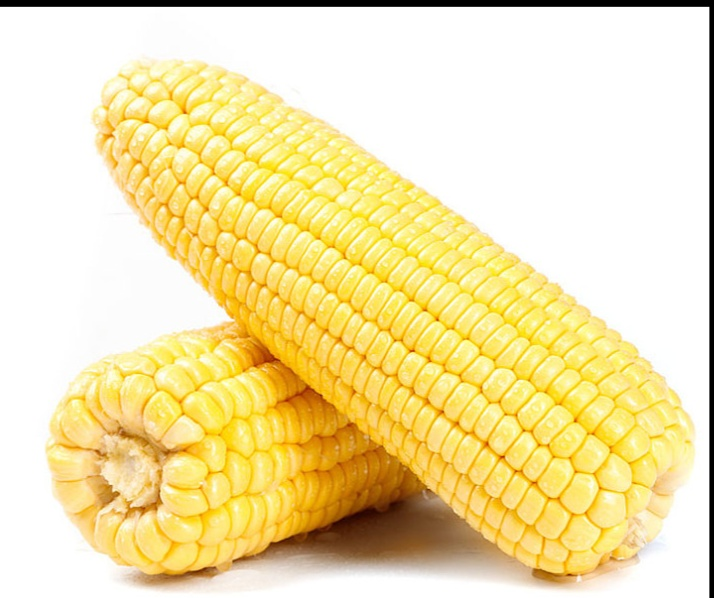corn: (97, 56, 674, 546), (45, 292, 539, 574)
